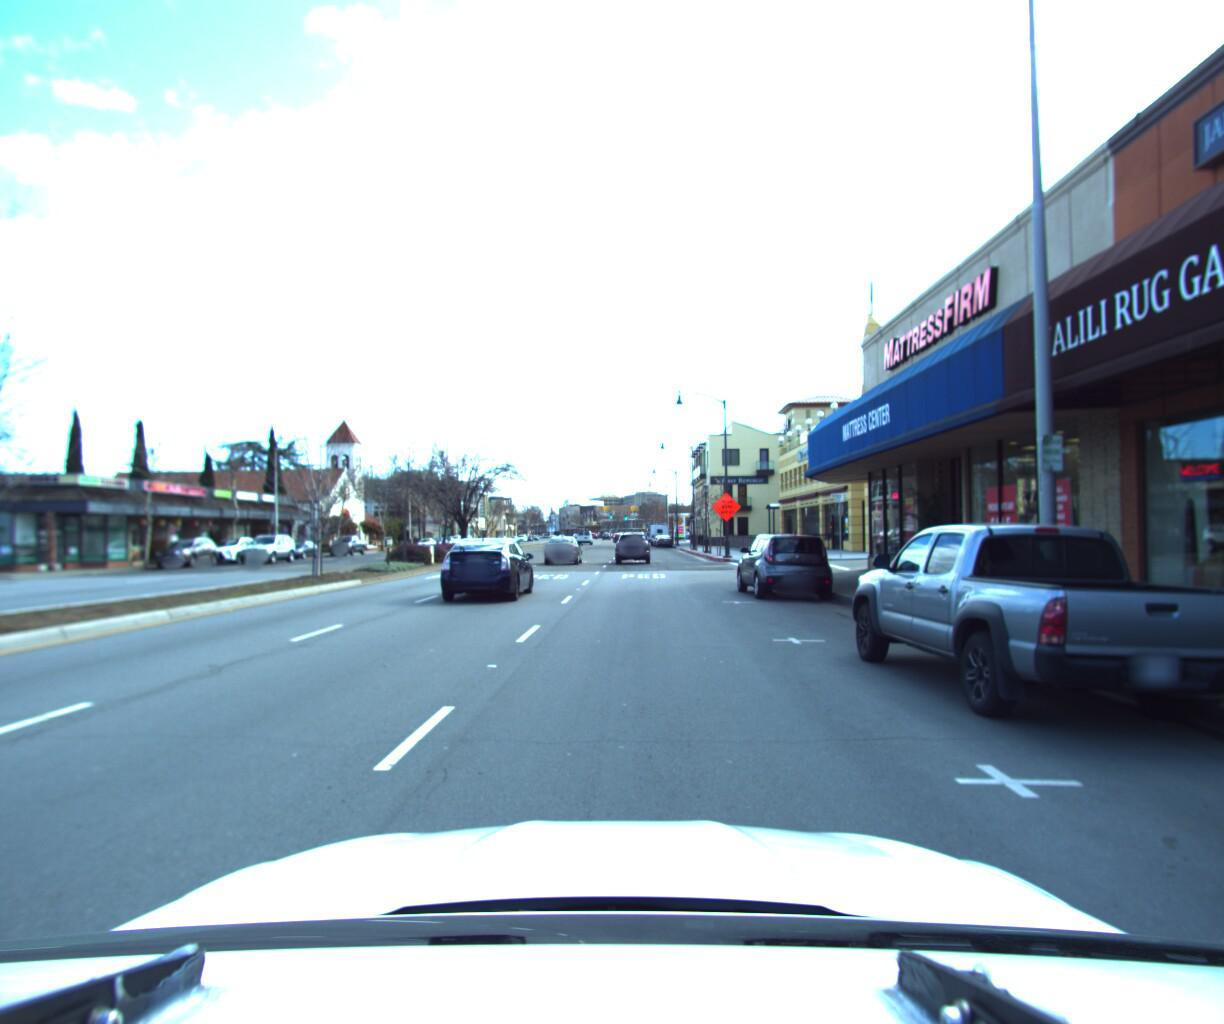car: (839, 514, 1224, 743), (727, 526, 842, 599), (431, 531, 537, 602), (151, 536, 226, 568), (235, 530, 301, 563), (200, 534, 268, 563), (542, 531, 582, 562), (611, 528, 648, 561), (326, 533, 370, 554)
